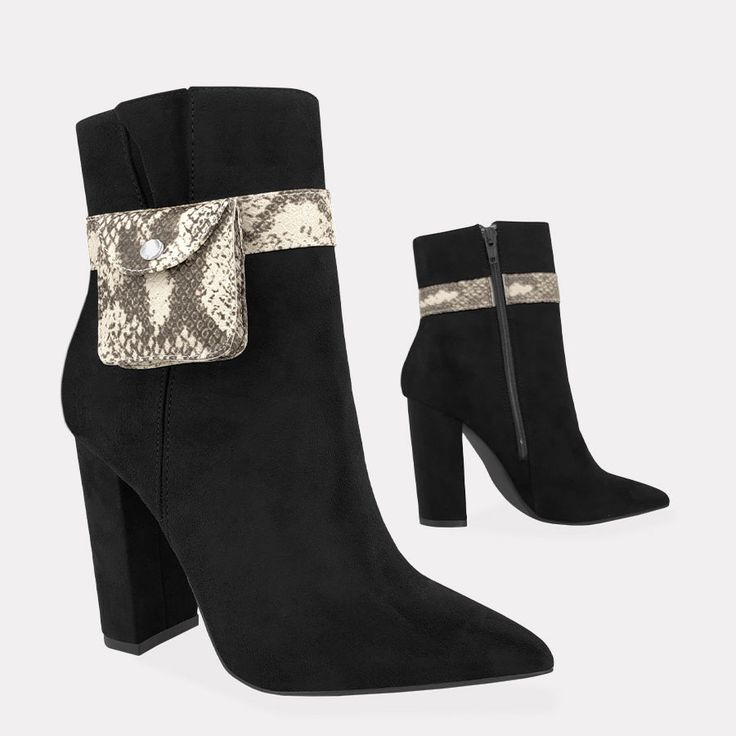gamuza: (60, 85, 670, 697)
